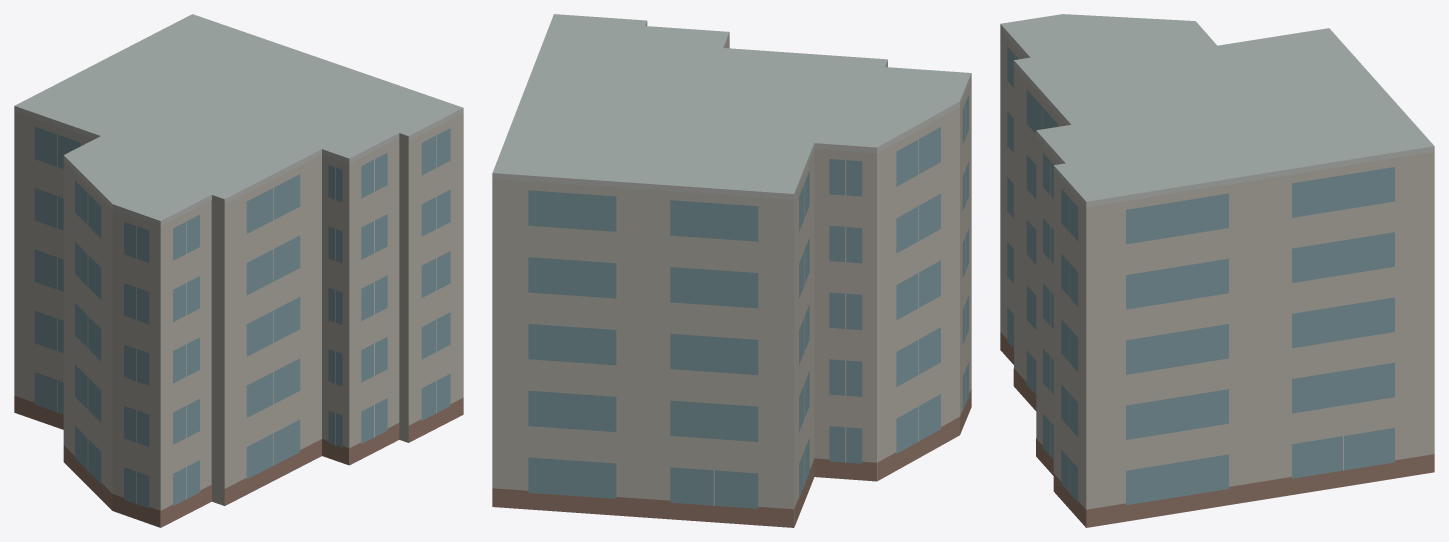
The model's file is survey-upis-32983167.glb.
3 renders of one model, left to right at view 1: azimuth 30°, elevation 25°; view 2: azimuth 150°, elevation 25°; view 3: azimuth 270°, elevation 25°, orthographic. The views are drawn at different scales.
Visible parts, largest first — view 1: survey-upis-32983167.tmp; view 2: survey-upis-32983167.tmp; view 3: survey-upis-32983167.tmp.
Part boxes in pixels (left/top/right/bottom): survey-upis-32983167.tmp: left=14, top=14, right=463, bottom=527; survey-upis-32983167.tmp: left=492, top=14, right=971, bottom=527; survey-upis-32983167.tmp: left=1000, top=14, right=1434, bottom=527.
Size of the model in its own units: 17.73 by 14.35 by 17.33.
